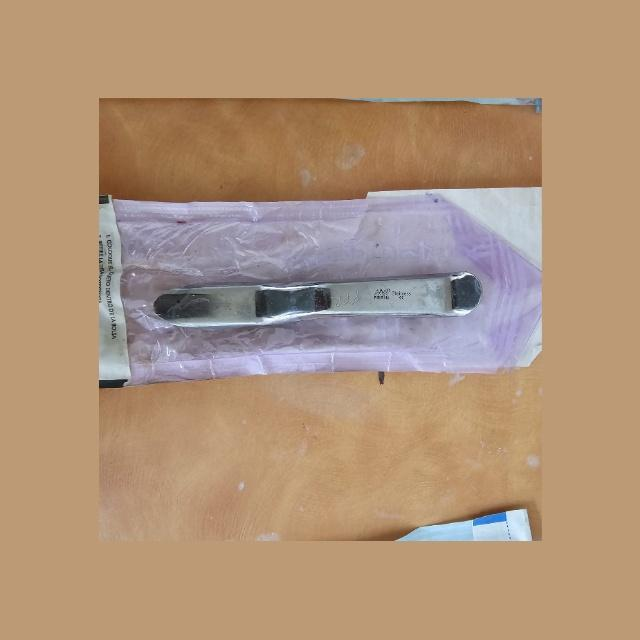separador: (151, 274, 483, 328)
